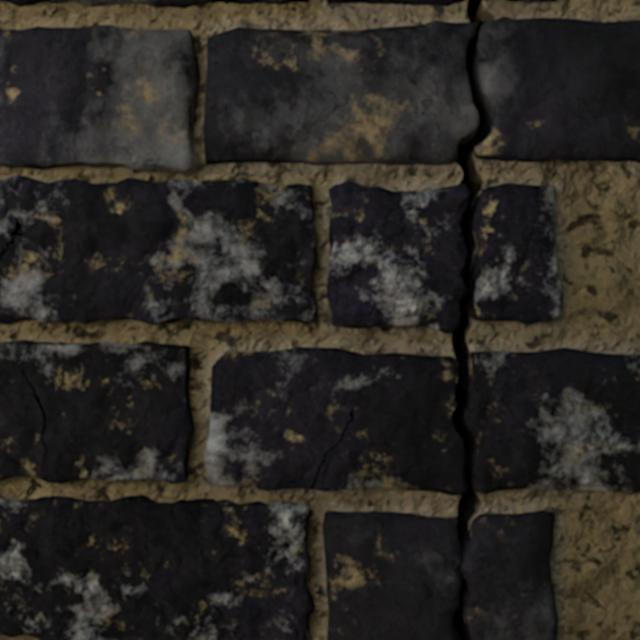broken_brick: (203, 21, 478, 165), (205, 347, 466, 495), (323, 510, 558, 639), (466, 348, 639, 494), (475, 17, 639, 162), (327, 181, 468, 333), (475, 183, 562, 324), (328, 0, 464, 6), (508, 0, 556, 3)
crack: (0, 175, 316, 324), (0, 495, 314, 639), (0, 25, 199, 174), (0, 340, 194, 483), (450, 0, 499, 553), (310, 408, 353, 489), (0, 0, 308, 8), (452, 576, 472, 639), (353, 485, 420, 487), (330, 563, 331, 631), (213, 367, 215, 400), (218, 481, 238, 482)
